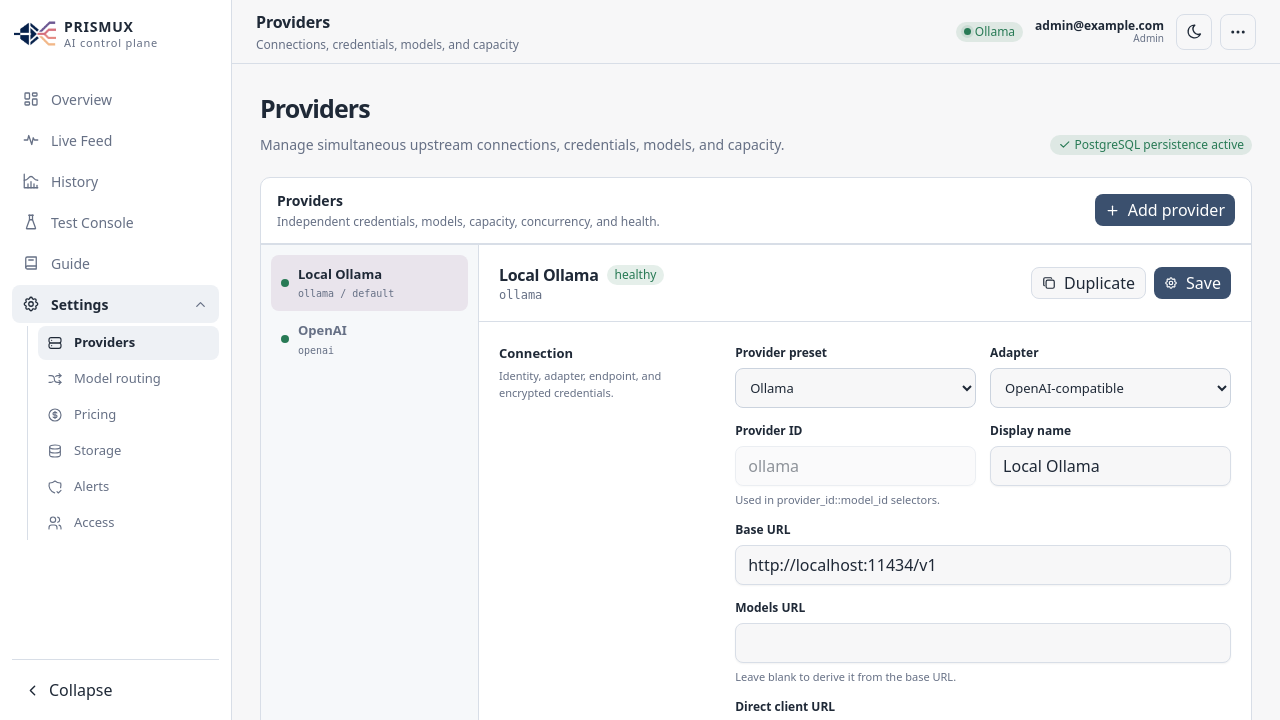
Scenario: dashboard application › conceals a persisted secret and keeps structured settings editable
Expected: the text "PostgreSQL persistence active" is shown, [1050,134,1252,154]
Click the link "Model routing" at (104, 378), box [47,369,161,387]
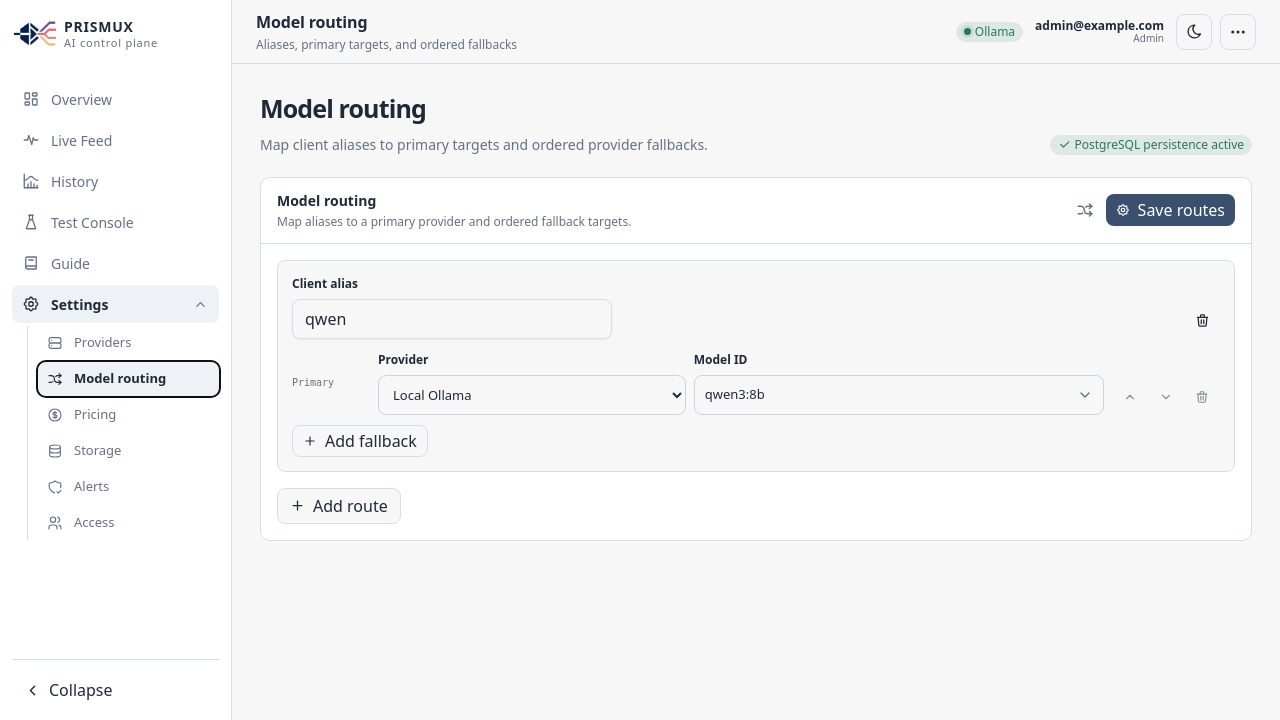
Result: the dropdown named "Model for qwen target 1" reads "qwen3:8b" at [694,374,1104,414]
Result: the button "Add route" is shown at [277,488,401,524]
